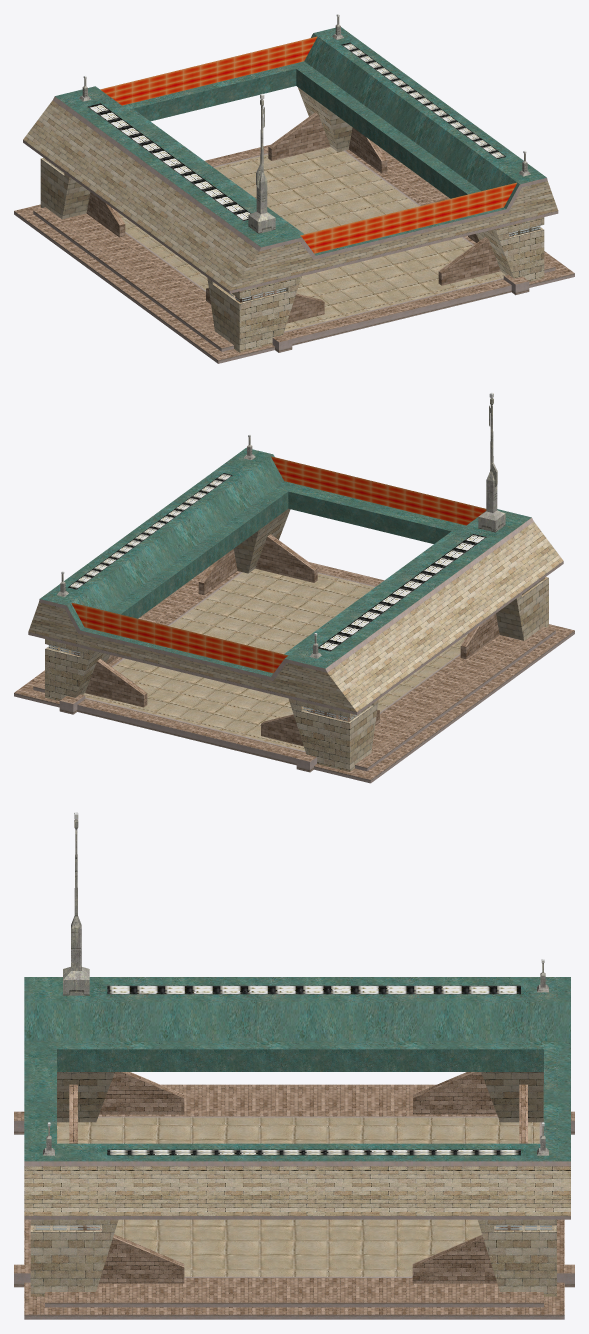
Rendered from mun_nboo_shuttleport_s01_l0.fbx.
3 views of the same model, one above another, from view 1: azimuth 30°, elevation 25°; view 2: azimuth 150°, elevation 25°; view 3: azimuth 270°, elevation 25° (orthographic). The views are drawn at different scales.
Visible parts, largest first — view 1: mesh_node; view 2: mesh_node; view 3: mesh_node.
Boxes of the visible parts, x1,y1,x2,y2 form: mesh_node: (14, 14, 574, 363); mesh_node: (14, 392, 574, 783); mesh_node: (14, 812, 574, 1319).
Bounding box in the file's own units: 31.47 × 20.21 × 32.4.
